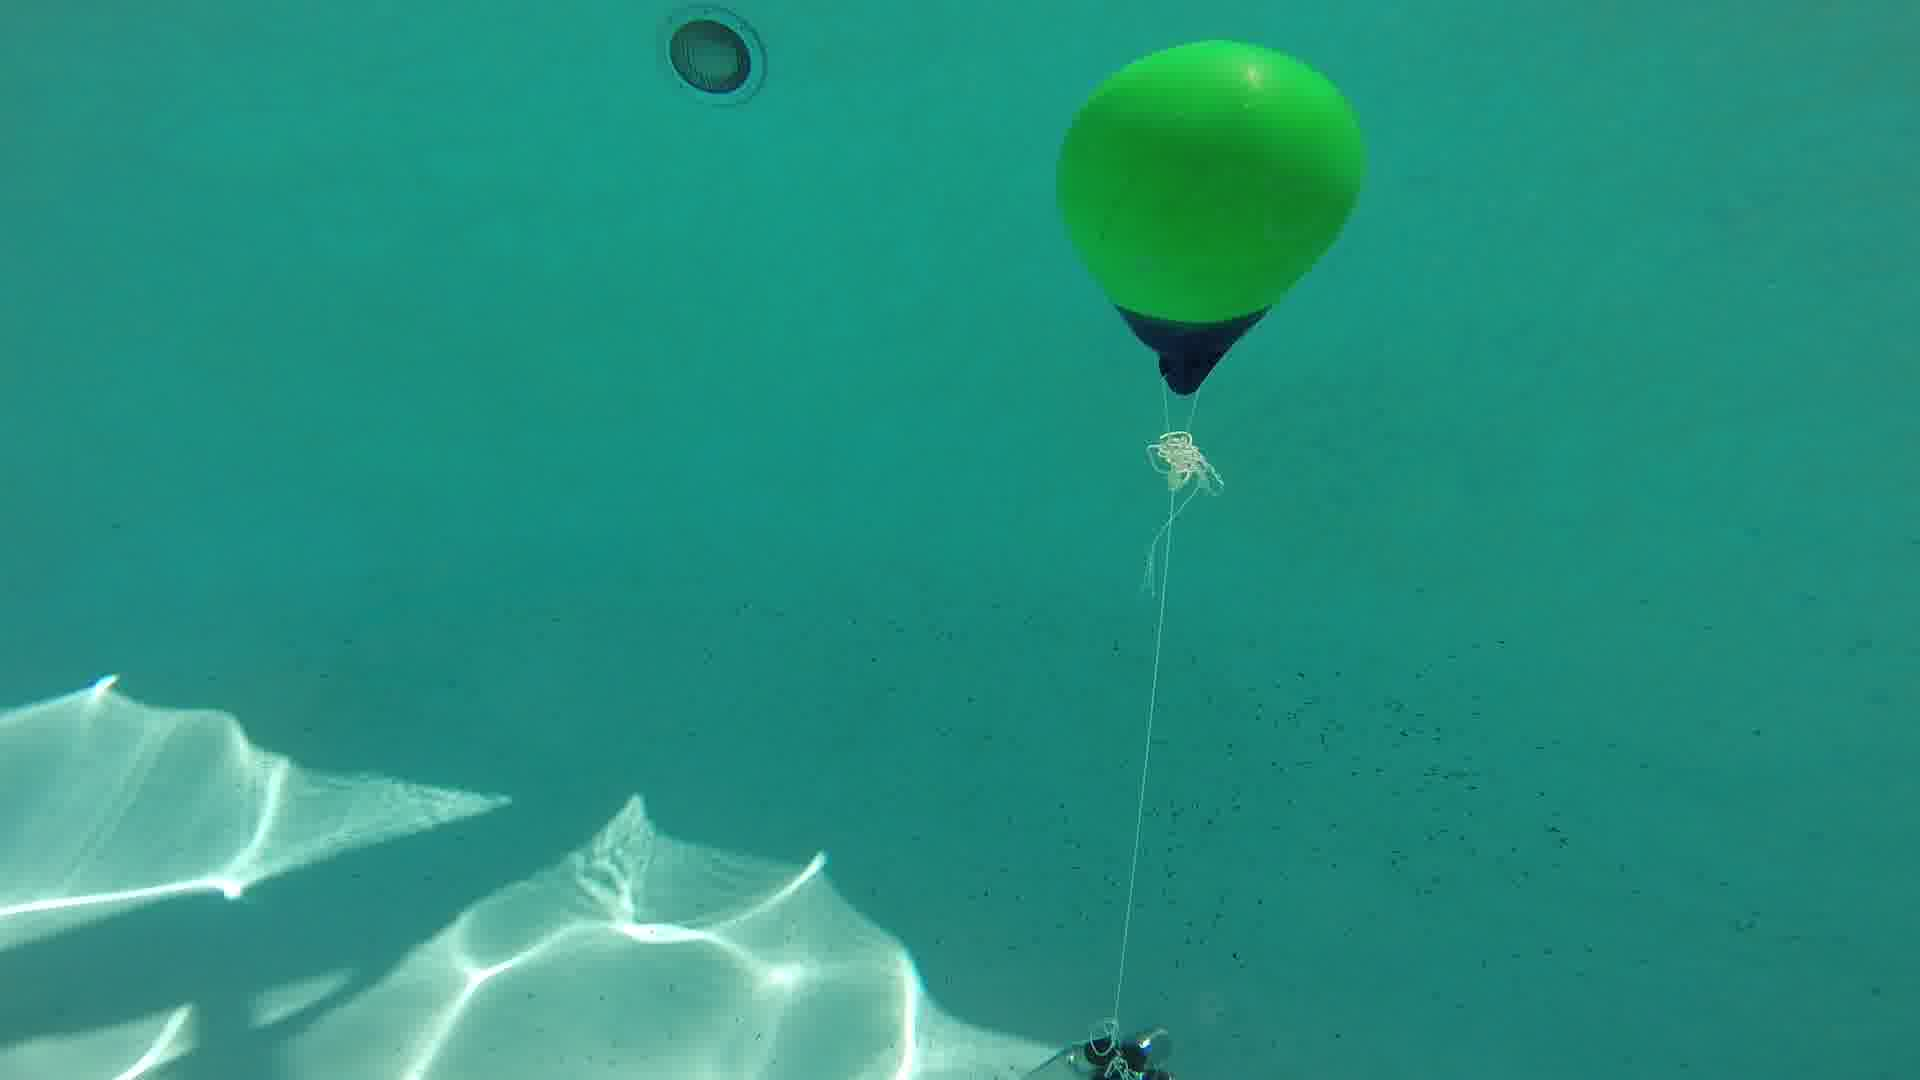yellow_buoy: (1048, 34, 1375, 407)
